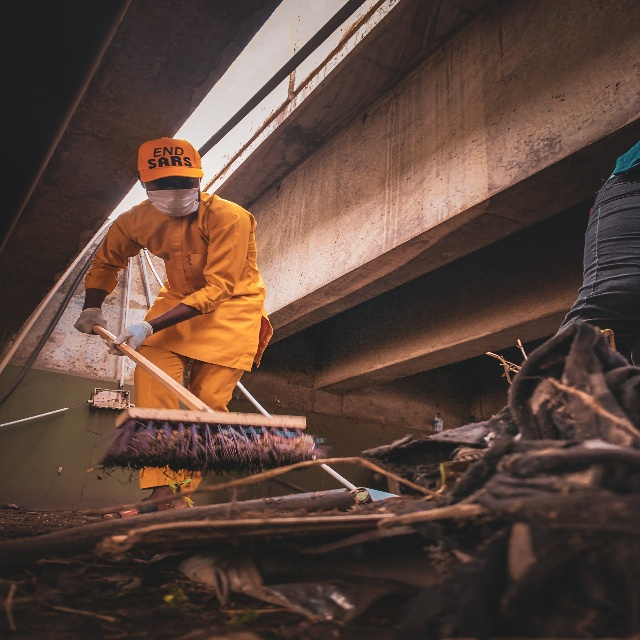Guantes: (105, 320, 153, 356), (72, 307, 108, 336)
Mascara: (142, 177, 201, 215)
